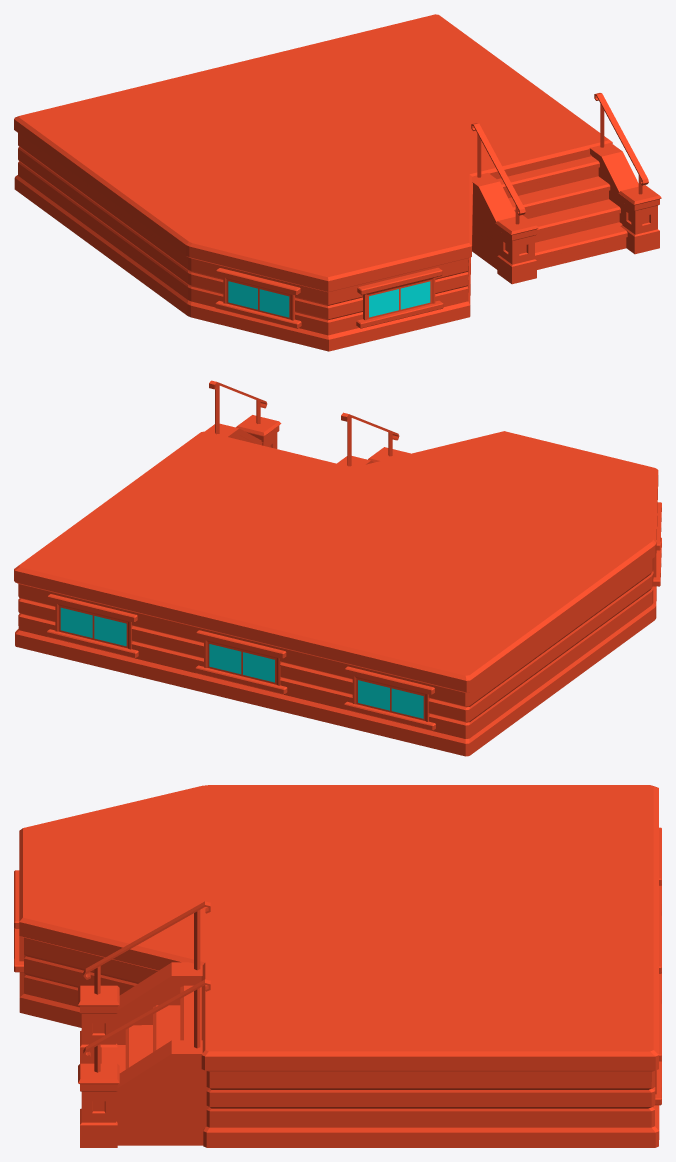
Rendered from SM_Bayhouse_Bottom_Small_A_FB_City.fbx.
The picture shows the model from 3 angles, top to bottom: view 1: azimuth 30°, elevation 25°; view 2: azimuth 150°, elevation 25°; view 3: azimuth 270°, elevation 25°; orthographic projection. The views are drawn at different scales.
Parts seen in each view (by area): view 1: SM_Bayhouse_Bottom_Small_A_FB_City; view 2: SM_Bayhouse_Bottom_Small_A_FB_City; view 3: SM_Bayhouse_Bottom_Small_A_FB_City.
Part boxes in pixels (x1,y1,x2,y2): SM_Bayhouse_Bottom_Small_A_FB_City: [14, 14, 661, 351]; SM_Bayhouse_Bottom_Small_A_FB_City: [14, 380, 661, 756]; SM_Bayhouse_Bottom_Small_A_FB_City: [14, 785, 661, 1147].
Size of the model in its own units: 6.08 by 1.67 by 6.16.
